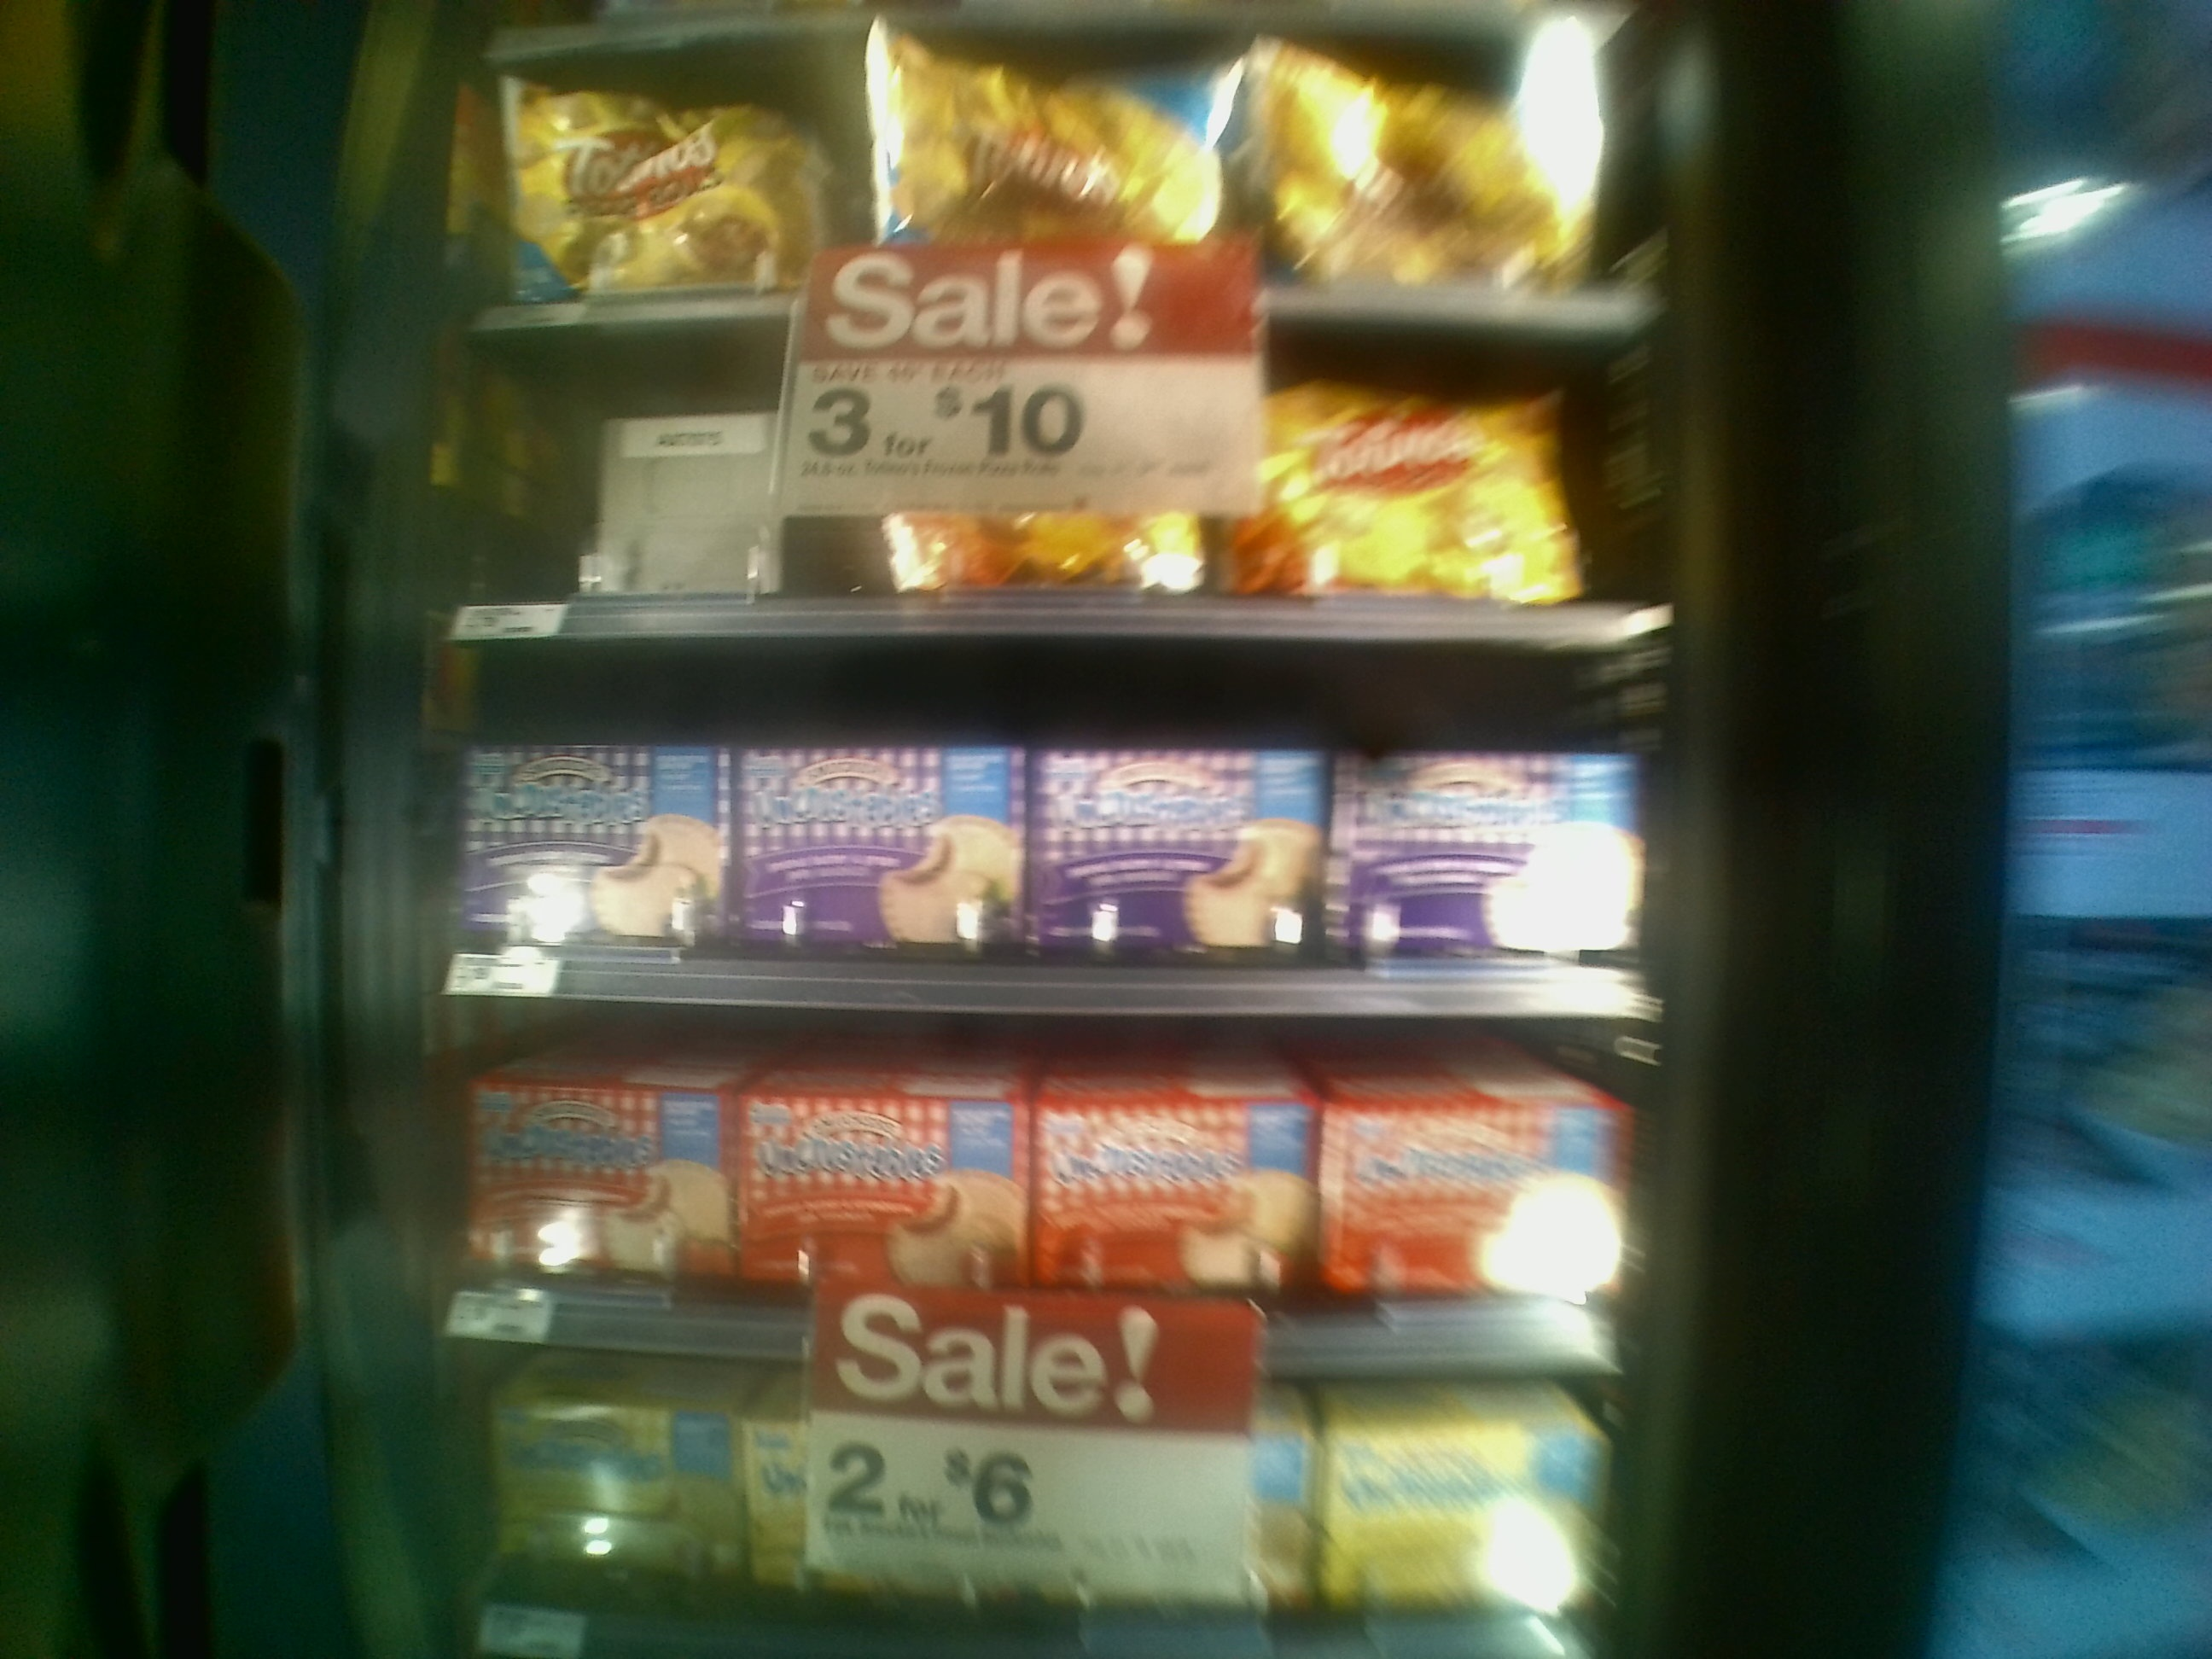shelf: (435, 633, 1641, 1032), (427, 990, 1630, 1385)
